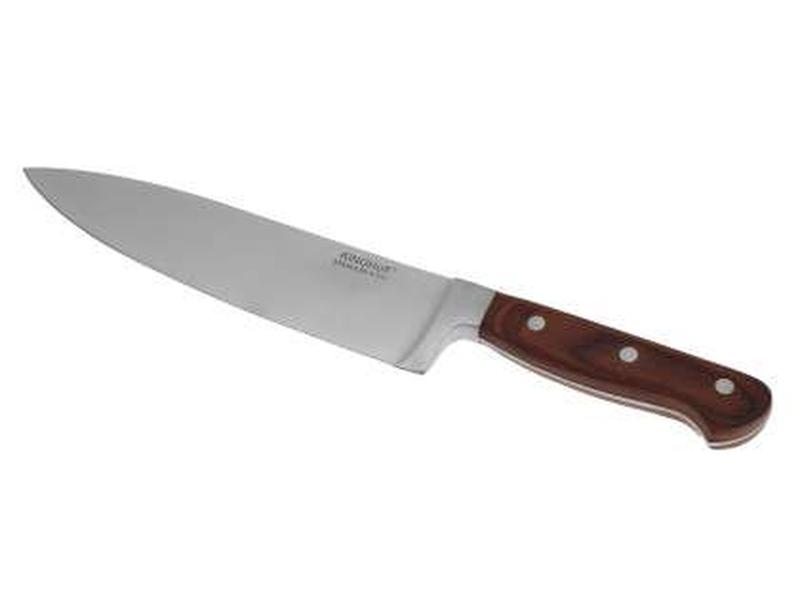KNIFE: (19, 161, 775, 456)
